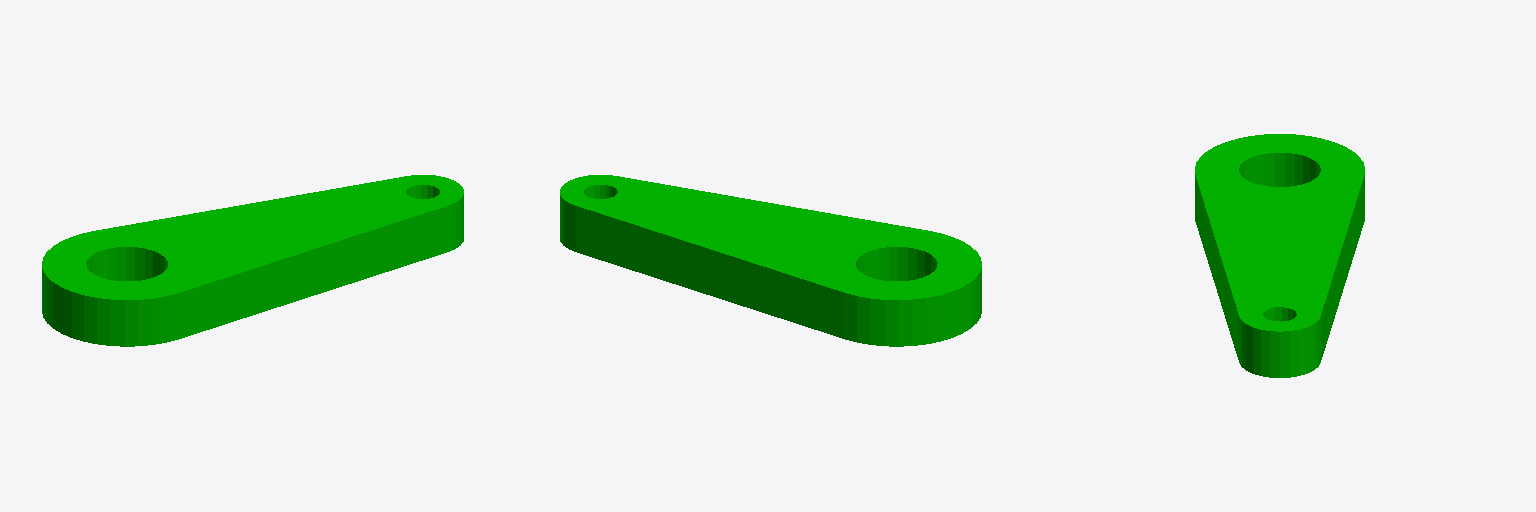
The model's file is Crank.obj.
3 renders of one model, left to right at view 1: azimuth 30°, elevation 25°; view 2: azimuth 150°, elevation 25°; view 3: azimuth 270°, elevation 25°, orthographic.
Parts seen in each view (by area): view 1: mesh 1 Crank; view 2: mesh 1 Crank; view 3: mesh 1 Crank.
Part boxes in pixels (left/top/right/bottom): mesh 1 Crank: left=42, top=175, right=463, bottom=346; mesh 1 Crank: left=560, top=175, right=981, bottom=346; mesh 1 Crank: left=1195, top=134, right=1364, bottom=377.
Size of the model in its own units: 0.0685 by 0.0075 by 0.025.